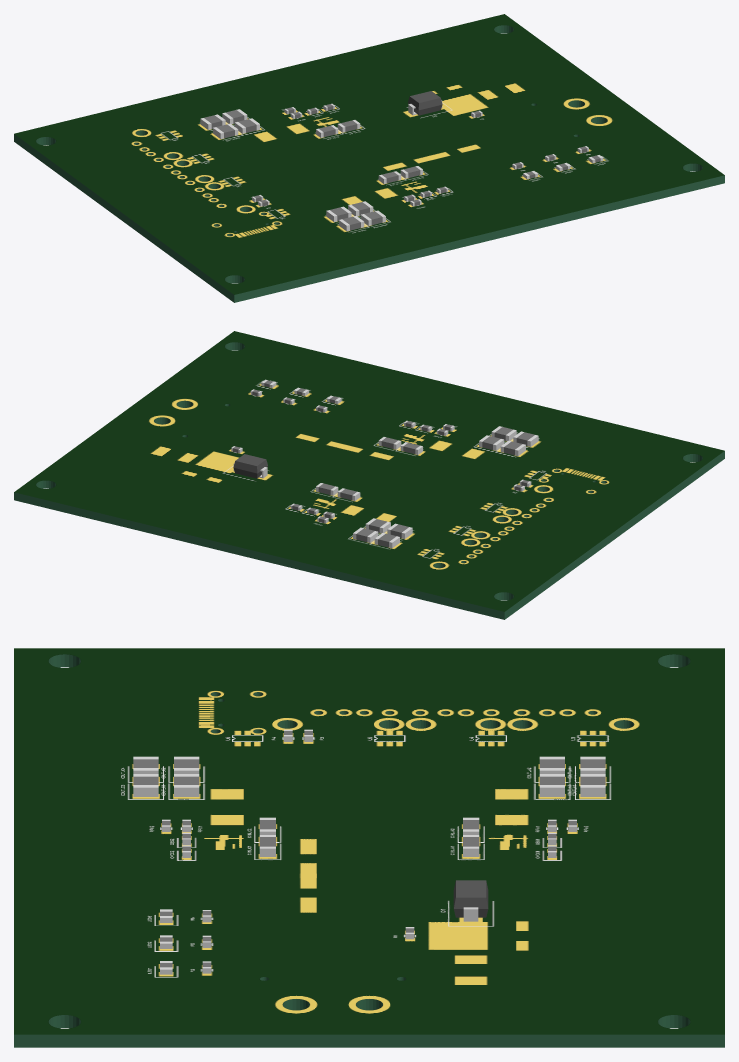
File: board.gltf
3 renders of one model, top to bottom at view 1: azimuth 30°, elevation 25°; view 2: azimuth 150°, elevation 25°; view 3: azimuth 270°, elevation 25°, orthographic. The views are drawn at different scales.
Visible parts, largest first — view 1: Box0, D1; view 2: Box0, D1; view 3: Box0, D1.
Boxes of the visible parts, bbox=[...] form: Box0: bbox=[14, 14, 724, 302]; D1: bbox=[408, 91, 442, 115]; Box0: bbox=[14, 331, 724, 619]; D1: bbox=[233, 454, 267, 478]; Box0: bbox=[14, 648, 724, 1047]; D1: bbox=[453, 880, 488, 921].
Bounding box in the file's own units: 90 × 3.71 × 70.
Materials: 7 (2 with a texture image).
